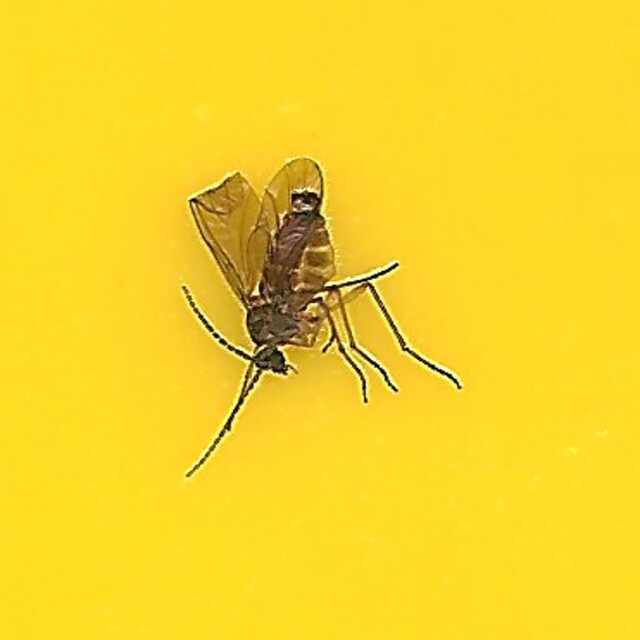Nematocera: (173, 154, 467, 486)
